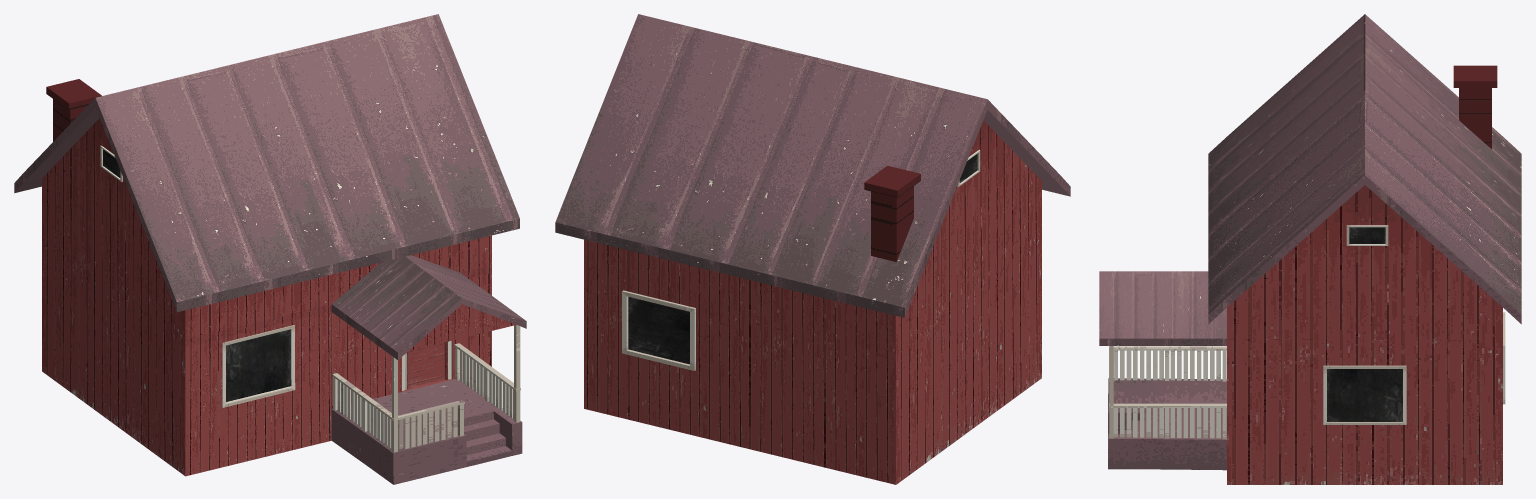
File: mökkiExterior.glb
3 views of the same model, side by side, from view 1: azimuth 30°, elevation 25°; view 2: azimuth 150°, elevation 25°; view 3: azimuth 270°, elevation 25° (orthographic). The views are drawn at different scales.
Parts seen in each view (by area): view 1: MökkiShell; view 2: MökkiShell; view 3: MökkiShell.
Part boxes in pixels (x1,y1,x2,y2): MökkiShell: (14,14,526,484); MökkiShell: (555,14,1070,484); MökkiShell: (1099,14,1521,484).
Bounding box in the file's own units: 3.71 × 3.42 × 4.11.
2 materials, 2 textured.
